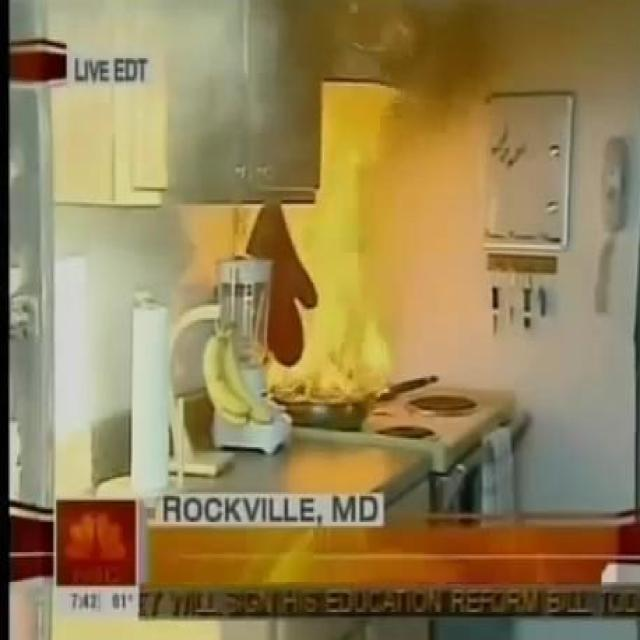fire: (100, 0, 290, 161), (369, 0, 516, 92)
smoke: (266, 192, 396, 412)
